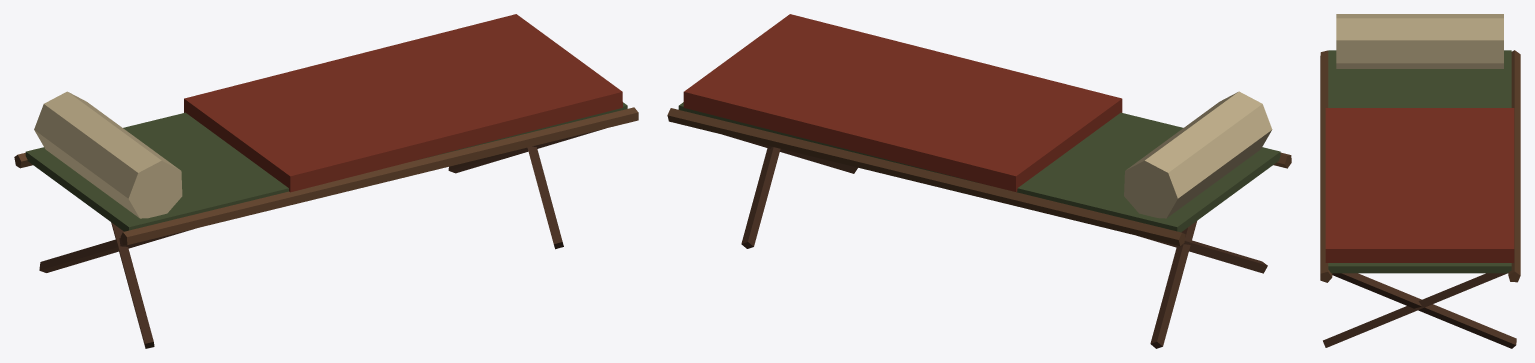
File: cot.glb
3 renders of one model, left to right at view 1: azimuth 30°, elevation 25°; view 2: azimuth 150°, elevation 25°; view 3: azimuth 270°, elevation 25°, orthographic. The views are drawn at different scales.
Visible parts, largest first — view 1: cot; view 2: cot; view 3: cot.
Boxes of the visible parts, bbox=[...] form: cot: bbox=[14, 14, 638, 348]; cot: bbox=[667, 14, 1291, 348]; cot: bbox=[1320, 14, 1520, 348].
Size of the model in its own units: 2 by 0.677 by 0.7649.
